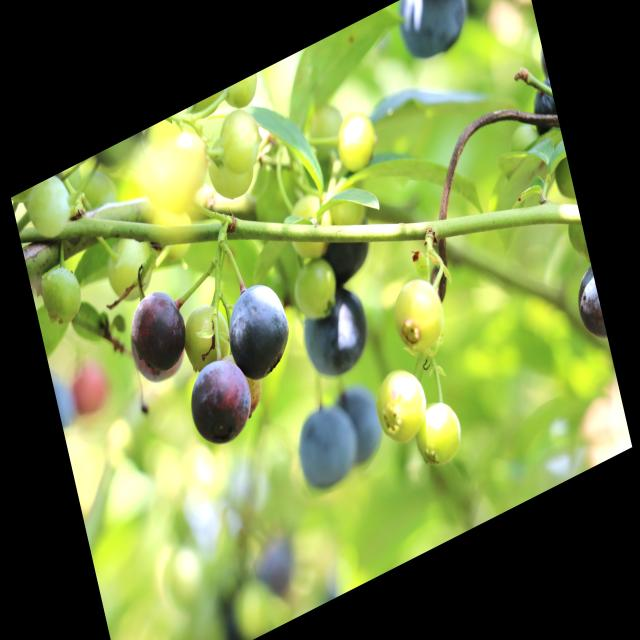blueberry: (220, 269, 301, 394), (284, 389, 367, 504), (297, 274, 378, 387), (183, 345, 258, 457), (124, 279, 194, 386), (329, 374, 392, 476), (391, 0, 476, 73), (315, 213, 377, 300), (565, 259, 609, 358), (523, 79, 561, 144)
blueberry-unripe: (386, 267, 453, 363), (368, 357, 433, 454), (410, 396, 468, 477), (19, 170, 77, 248), (104, 228, 159, 310), (179, 296, 234, 374), (286, 252, 341, 326), (281, 191, 332, 269), (214, 102, 266, 177), (330, 102, 380, 178), (37, 260, 86, 331), (206, 138, 252, 205)
